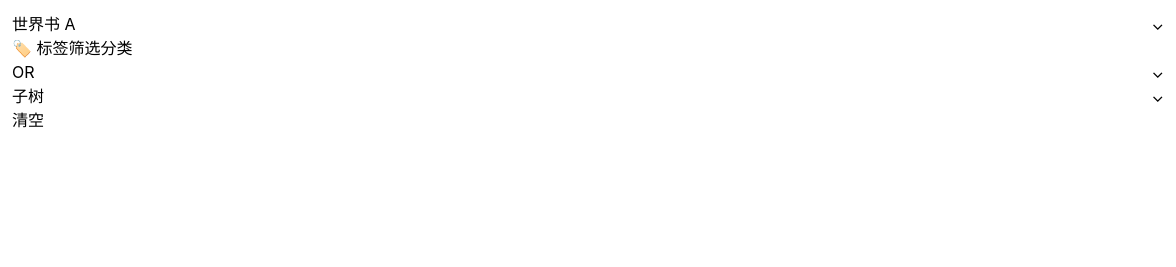
Scenario: WorldbookPicker › uses the mobile flat tag view with path search and assignments-driven filtering semantics
Click the button with class "tag-filter-open" at (56, 48), box [12,36,100,60]
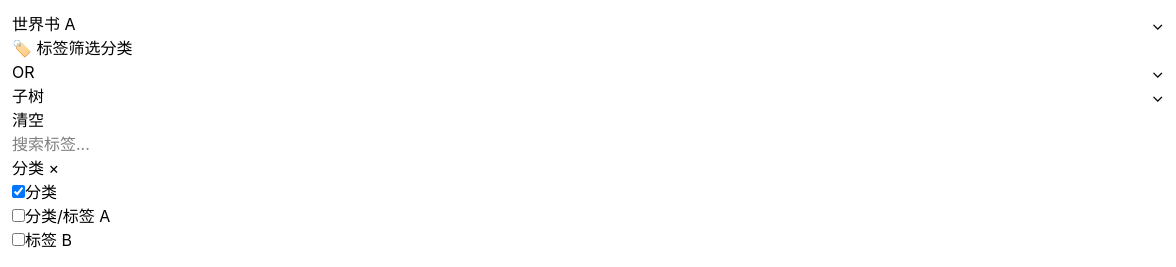
Expected: the elements with class "tag-flat-item" read "分类", "分类/标签 A", "标签 B", in this order, [12,182,57,202]; [12,206,110,226]; [12,230,72,250]
Type "分类/标签" into the field with class "tag-filter-search" at (136, 144), box [12,132,260,156]
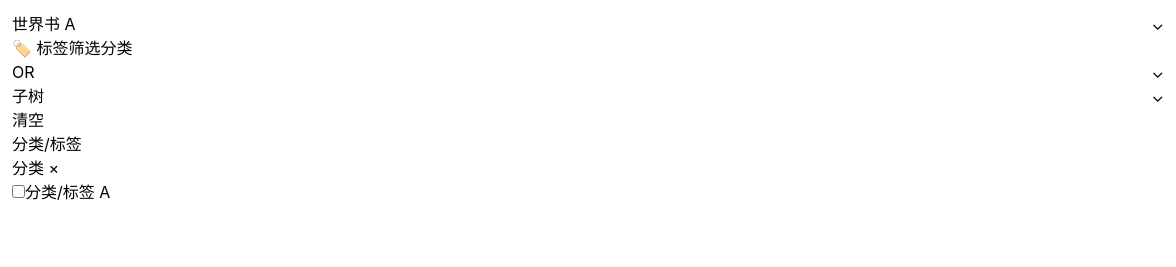
Expected: the elements with class "tag-flat-item" read "分类/标签 A", in this order, [12,182,110,202]
